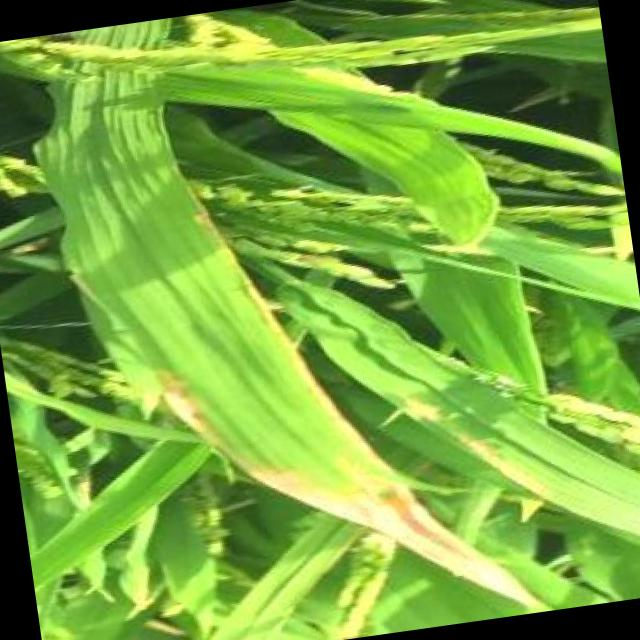Rice_Bacterial_Blight: (72, 46, 358, 561)
